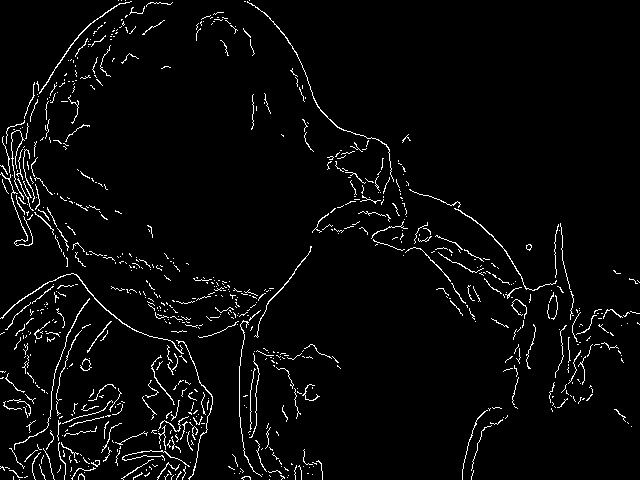red_onion: (8, 2, 425, 347), (223, 176, 567, 472), (1, 269, 216, 476)
